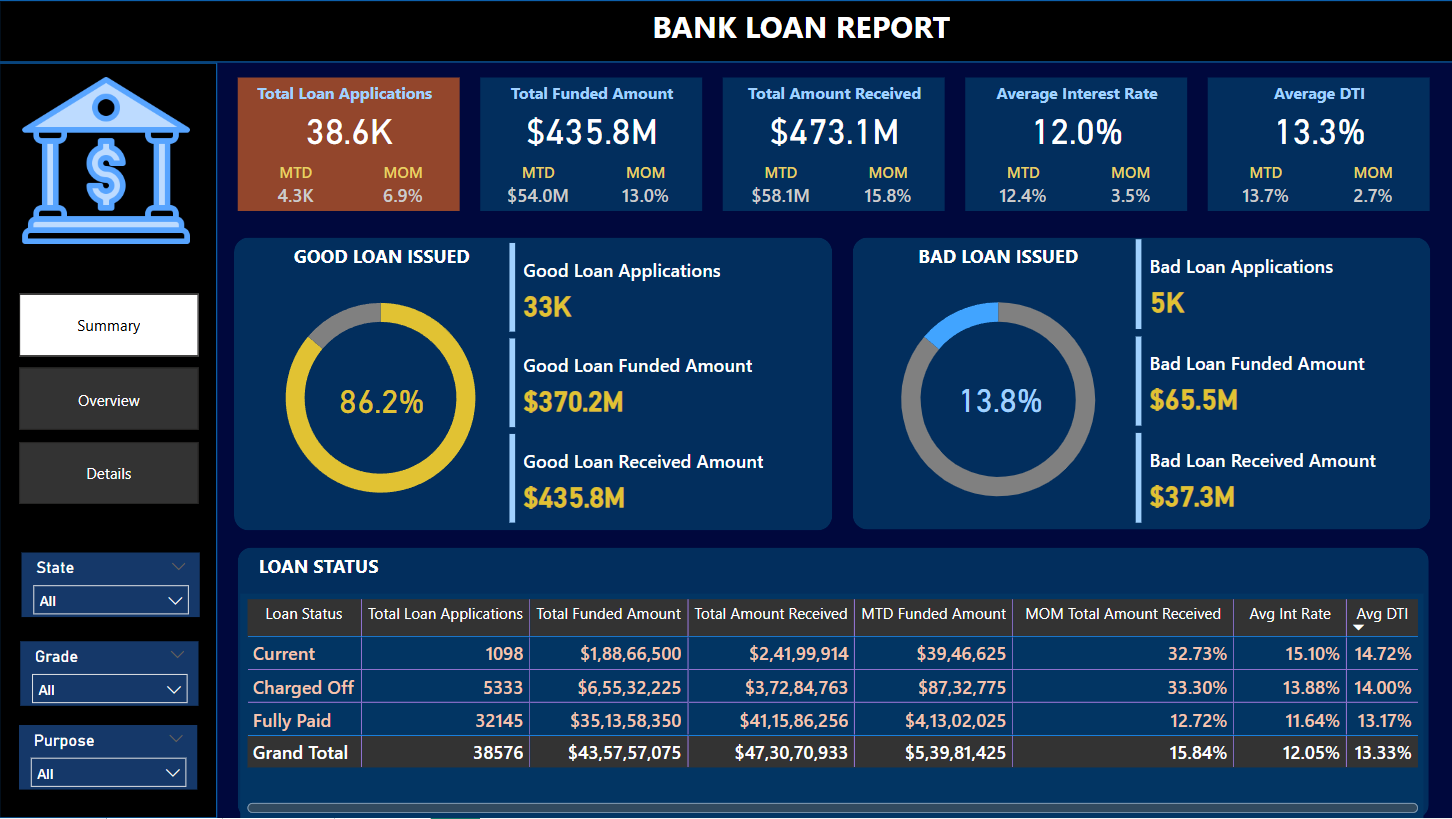

The dashboard page shown, as its layout file describes it:
{"tool":"powerbi","page":{"name":"Summary","canvas":[1280,720],"ordinal":0},"visuals":[{"type":"shape","box":[0,54.6,192,665],"z":0},{"type":"shape","box":[210.1,67.4,195.3,117.4],"z":0,"group":"g1"},{"type":"shape","box":[423.3,67.4,195.3,117.4],"z":0,"group":"g3"},{"type":"shape","box":[636.5,67.4,195.3,117.4],"z":0,"group":"g2"},{"type":"shape","box":[849.7,67.4,195.3,117.4],"z":0,"group":"g4"},{"type":"shape","box":[1063,67.4,195.3,117.4],"z":0,"group":"g5"},{"type":"shape","box":[0,0,1280,55],"z":1000},{"type":"card","fields":{"Values":["financial_loan.Total Loan Applications"]},"box":[210.9,84.9,194.8,57],"z":1000,"group":"g1"},{"type":"card","fields":{"Values":["financial_loan.Total Funded Amount"]},"box":[424.1,84.9,194.8,57],"z":1000,"group":"g3"},{"type":"card","fields":{"Values":["financial_loan.Total Amount Received"]},"box":[637.3,84.9,194.8,57],"z":1000,"group":"g2"},{"type":"card","fields":{"Values":["financial_loan.Avg Int Rate"]},"box":[850.5,84.9,194.8,57],"z":1000,"group":"g4"},{"type":"card","fields":{"Values":["financial_loan.Avg DTI"]},"box":[1063.8,84.9,194.8,57],"z":1000,"group":"g5"},{"type":"textbox","box":[569.3,0,282.8,49.1],"z":2000},{"type":"textbox","box":[222.1,66.8,172.5,33.4],"z":2000,"group":"g1"},{"type":"textbox","box":[435.3,66.8,172.5,33.4],"z":2000,"group":"g3"},{"type":"textbox","box":[648.5,66.8,172.5,33.4],"z":2000,"group":"g2"},{"type":"textbox","box":[861.7,66.8,172.5,33.4],"z":2000,"group":"g4"},{"type":"textbox","box":[1075,66.8,172.5,33.4],"z":2000,"group":"g5"},{"type":"group","id":"g1","title":"Group 1","box":[210.1,66.8,196.2,122.4],"z":3000},{"type":"card","title":"MTD","fields":{"Values":["financial_loan.MTD Loan Applications"]},"box":[222.1,141.9,77.9,47.3],"z":3000,"group":"g1"},{"type":"card","title":"MTD","fields":{"Values":["financial_loan.MTD Funded Amount"]},"box":[435.3,141.9,77.9,47.3],"z":3000,"group":"g3"},{"type":"card","title":"MTD","fields":{"Values":["financial_loan.MTD Total Amount Received"]},"box":[648.5,141.9,77.9,47.3],"z":3000,"group":"g2"},{"type":"card","title":"MTD","fields":{"Values":["financial_loan.MTD Avg Int Rate"]},"box":[861.7,141.9,77.9,47.3],"z":3000,"group":"g4"},{"type":"card","title":"MTD","fields":{"Values":["financial_loan.MTD Avg DTI"]},"box":[1075,141.9,77.9,47.3],"z":3000,"group":"g5"},{"type":"group","id":"g2","title":"Group 1","box":[636.5,66.8,196.2,122.4],"z":4000},{"type":"card","title":"MOM","fields":{"Values":["financial_loan.MOM Loan Applications"]},"box":[316.7,141.9,77.9,47.3],"z":4000,"group":"g1"},{"type":"card","title":"MOM","fields":{"Values":["financial_loan.MOM Funded Amount"]},"box":[529.9,141.9,77.9,47.3],"z":4000,"group":"g3"},{"type":"card","title":"MOM","fields":{"Values":["financial_loan.MOM Total Amount Received"]},"box":[743.1,141.9,77.9,47.3],"z":4000,"group":"g2"},{"type":"card","title":"MOM","fields":{"Values":["financial_loan.MOM Avg Int Rate"]},"box":[956.3,141.9,77.9,47.3],"z":4000,"group":"g4"},{"type":"card","title":"MOM","fields":{"Values":["financial_loan.MOM Avg DTI"]},"box":[1169.6,141.9,77.9,47.3],"z":4000,"group":"g5"},{"type":"group","id":"g3","title":"Group 1","box":[423.3,66.8,196.2,122.4],"z":5000},{"type":"shape","box":[207,209.8,526.2,257.7],"z":5000,"group":"g6"},{"type":"group","id":"g4","title":"Group 1","box":[849.7,66.8,196.2,122.4],"z":6000},{"type":"group","id":"g5","title":"Group 1","box":[1063,66.8,196.2,122.4],"z":7000},{"type":"shape","box":[751.2,209.3,508.1,257],"z":8000},{"type":"donutChart","fields":{"Category":["financial_loan.Good vs Bad Loan"],"Y":["financial_loan.Total Loan Applications"]},"box":[767.4,237.2,223.3,227.9],"z":9000},{"type":"donutChart","fields":{"Category":["financial_loan.Good vs Bad Loan"],"Y":["financial_loan.Total Loan Applications"]},"box":[226.8,241.5,218.6,218.6],"z":9000,"group":"g6"},{"type":"textbox","box":[780.2,209.3,196.5,33.7],"z":10000},{"type":"card","fields":{"Values":["financial_loan.Bad Loan %"]},"box":[783.7,322.1,194.2,57],"z":11000},{"type":"card","fields":{"Values":["financial_loan.Good Loan %"]},"box":[250.7,322.2,172.4,57.8],"z":11000,"group":"g6"},{"type":"cardVisual","fields":{"Data":["financial_loan.Bad Loan Applications","financial_loan.Bad Loan Funded Amount","financial_loan.Bad Loan Received Amount"]},"box":[995.4,205.8,281.4,260.5],"z":12000},{"type":"textbox","box":[240.6,209.3,191.7,33.3],"z":12000,"group":"g6"},{"type":"group","id":"g6","title":"Group 2","box":[207,209.3,527.9,258.1],"z":13000},{"type":"cardVisual","fields":{"Data":["financial_loan.Good Loan Applications","financial_loan.Good Loan Funded Amount","financial_loan.Good Loan Received Amount"]},"box":[444.3,209.8,290.6,257.7],"z":13000,"group":"g6"},{"type":"group","id":"g7","title":"Group 3","box":[197.7,481.4,1059.3,238.4],"z":14000},{"type":"shape","box":[209.3,481.4,1047.7,238.4],"z":14000,"group":"g7"},{"type":"tableEx","fields":{"Values":["financial_loan.loan_status","financial_loan.Total Loan Applications","financial_loan.Total Funded Amount","financial_loan.Total Amount Received","financial_loan.MTD Funded Amount","financial_loan.MOM Total Amount Received","financial_loan.Avg Int Rate","financial_loan.Avg DTI"]},"box":[211.7,522.1,1040.7,197.7],"z":16000,"group":"g7"},{"type":"textbox","box":[197.7,481.4,166.3,33.7],"z":16500,"group":"g7"},{"type":"slicer","fields":{"Values":["financial_loan.address_state"]},"box":[19.8,486,157,57],"z":23501},{"type":"slicer","fields":{"Values":["financial_loan.grade"]},"box":[18.6,564,157,57],"z":24001},{"type":"slicer","fields":{"Values":["financial_loan.purpose"]},"box":[17.4,637.2,157,57],"z":24501},{"type":"image","box":[10.5,39.5,166.3,203.5],"z":25001},{"type":"pageNavigator","box":[17.4,258.1,158.1,187.2],"z":25501}]}

Visuals, with their boxes in screenshot pixels (x1, y1, x2, y2), scaled from the page's 1280x720 canvas onto the 1452x819 screenshot:
shape: x1=0, y1=62, x2=218, y2=818
shape: x1=238, y1=77, x2=460, y2=210
shape: x1=480, y1=77, x2=702, y2=210
shape: x1=722, y1=77, x2=944, y2=210
shape: x1=964, y1=77, x2=1185, y2=210
shape: x1=1206, y1=77, x2=1427, y2=210
shape: x1=0, y1=0, x2=1451, y2=63
card - financial_loan.Total Loan Applications: x1=239, y1=97, x2=460, y2=161
card - financial_loan.Total Funded Amount: x1=481, y1=97, x2=702, y2=161
card - financial_loan.Total Amount Received: x1=723, y1=97, x2=944, y2=161
card - financial_loan.Avg Int Rate: x1=965, y1=97, x2=1186, y2=161
card - financial_loan.Avg DTI: x1=1207, y1=97, x2=1428, y2=161
textbox: x1=646, y1=0, x2=967, y2=56
textbox: x1=252, y1=76, x2=448, y2=114
textbox: x1=494, y1=76, x2=689, y2=114
textbox: x1=736, y1=76, x2=931, y2=114
textbox: x1=977, y1=76, x2=1173, y2=114
textbox: x1=1219, y1=76, x2=1415, y2=114
"Group 1" group: x1=238, y1=76, x2=461, y2=215
"MTD" card: x1=252, y1=161, x2=340, y2=215
"MTD" card: x1=494, y1=161, x2=582, y2=215
"MTD" card: x1=736, y1=161, x2=824, y2=215
"MTD" card: x1=977, y1=161, x2=1066, y2=215
"MTD" card: x1=1219, y1=161, x2=1308, y2=215
"Group 1" group: x1=722, y1=76, x2=945, y2=215
"MOM" card: x1=359, y1=161, x2=448, y2=215
"MOM" card: x1=601, y1=161, x2=689, y2=215
"MOM" card: x1=843, y1=161, x2=931, y2=215
"MOM" card: x1=1085, y1=161, x2=1173, y2=215
"MOM" card: x1=1327, y1=161, x2=1415, y2=215
"Group 1" group: x1=480, y1=76, x2=703, y2=215
shape: x1=235, y1=239, x2=832, y2=532
"Group 1" group: x1=964, y1=76, x2=1186, y2=215
"Group 1" group: x1=1206, y1=76, x2=1428, y2=215
shape: x1=852, y1=238, x2=1429, y2=530
donutChart - financial_loan.Good vs Bad Loan x financial_loan.Total Loan Applications: x1=871, y1=270, x2=1124, y2=529
donutChart - financial_loan.Good vs Bad Loan x financial_loan.Total Loan Applications: x1=257, y1=275, x2=505, y2=523
textbox: x1=885, y1=238, x2=1108, y2=276
card - financial_loan.Bad Loan %: x1=889, y1=366, x2=1109, y2=431
card - financial_loan.Good Loan %: x1=284, y1=367, x2=480, y2=432
cardVisual - financial_loan.Bad Loan Applications x financial_loan.Bad Loan Funded Amount: x1=1129, y1=234, x2=1448, y2=530
textbox: x1=273, y1=238, x2=490, y2=276
"Group 2" group: x1=235, y1=238, x2=834, y2=532
cardVisual - financial_loan.Good Loan Applications x financial_loan.Good Loan Funded Amount: x1=504, y1=239, x2=834, y2=532
"Group 3" group: x1=224, y1=548, x2=1426, y2=818
shape: x1=237, y1=548, x2=1426, y2=818
tableEx - financial_loan.loan_status x financial_loan.Total Loan Applications: x1=240, y1=594, x2=1421, y2=818
textbox: x1=224, y1=548, x2=413, y2=586
slicer - financial_loan.address_state: x1=22, y1=553, x2=201, y2=618
slicer - financial_loan.grade: x1=21, y1=642, x2=199, y2=706
slicer - financial_loan.purpose: x1=20, y1=725, x2=198, y2=790
image: x1=12, y1=45, x2=201, y2=276
pageNavigator: x1=20, y1=294, x2=199, y2=507
